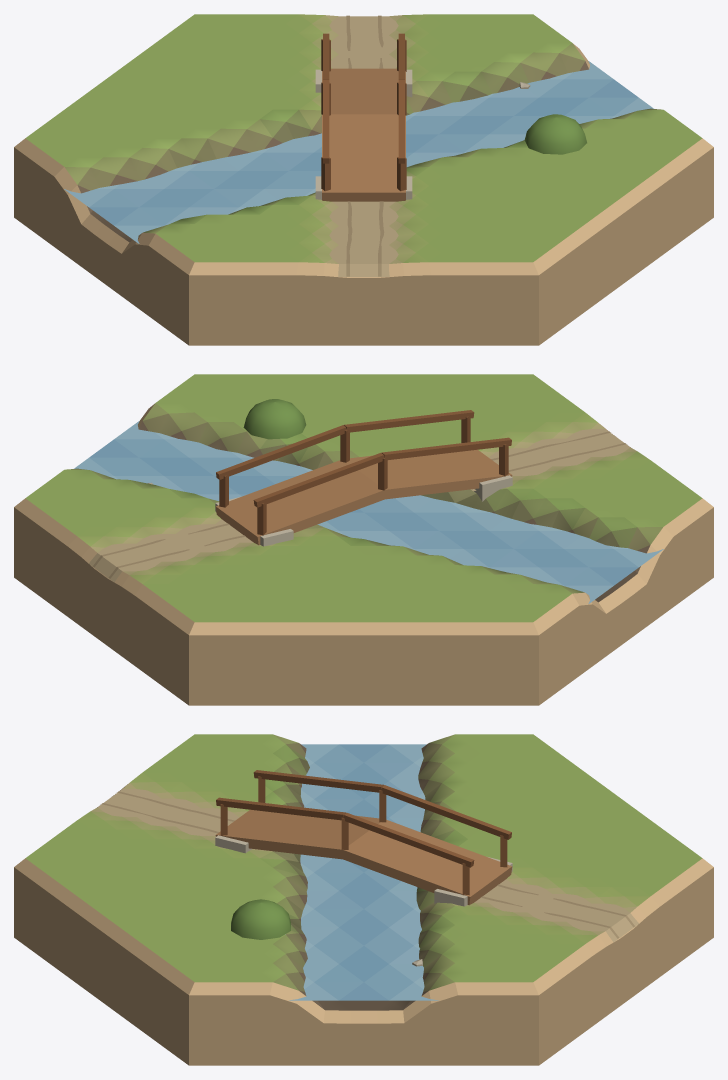
Rendered from bridge.fbx.
3 views of the same model, one above another, from view 1: azimuth 30°, elevation 25°; view 2: azimuth 150°, elevation 25°; view 3: azimuth 270°, elevation 25° (orthographic).
Visible parts, largest first — view 1: bridge; view 2: bridge; view 3: bridge.
Part boxes in pixels (bbox=[...]): bridge: bbox=[14, 14, 713, 345]; bridge: bbox=[14, 374, 713, 705]; bridge: bbox=[14, 734, 713, 1065].
Size of the model in its own units: 1.73 by 0.4339 by 2.
